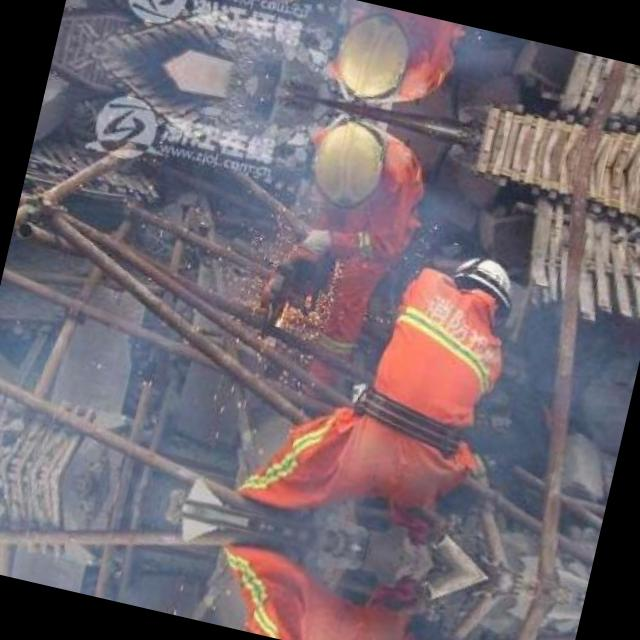helmet: (303, 118, 401, 218), (330, 5, 428, 104), (439, 248, 518, 326)
